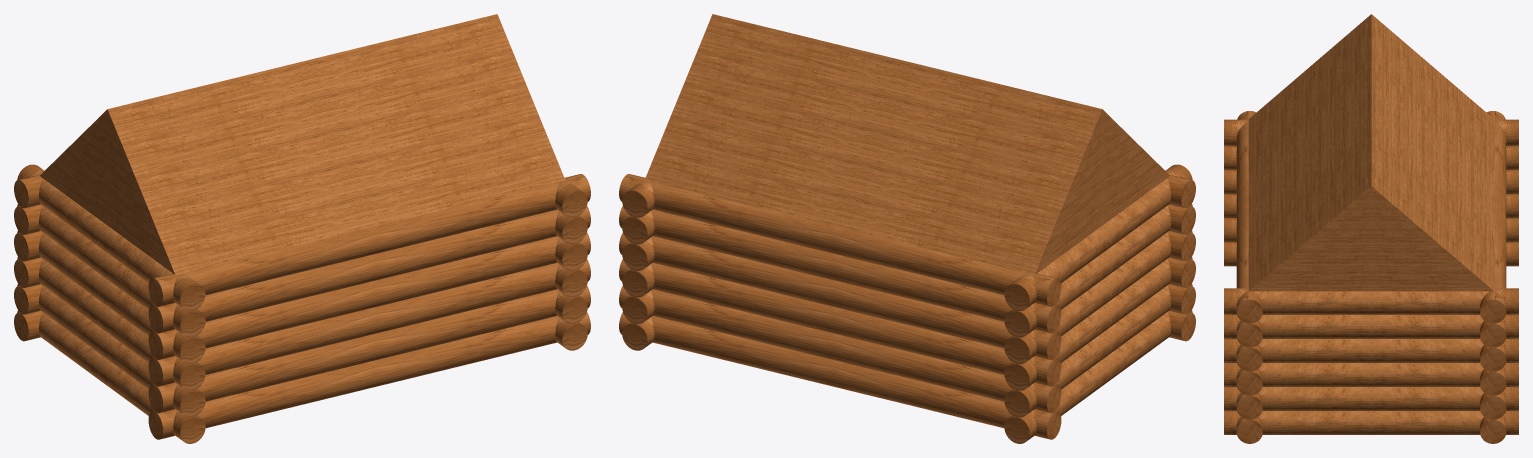
The model's file is cabinPlaceholder.fbx.
3 renders of one model, left to right at view 1: azimuth 30°, elevation 25°; view 2: azimuth 150°, elevation 25°; view 3: azimuth 270°, elevation 25°, orthographic. The views are drawn at different scales.
Visible parts, largest first — view 1: Cylinder, Cube; view 2: Cylinder, Cube; view 3: Cube, Cylinder.
Boxes of the visible parts, x1,y1,x2,y2 form: Cylinder: (14,164,590,443); Cube: (40,14,564,275); Cylinder: (619,164,1195,443); Cube: (645,14,1169,275); Cube: (1248,14,1494,291); Cylinder: (1224,111,1518,443).
Size of the model in its own units: 11.45 by 7.05 by 7.56.
